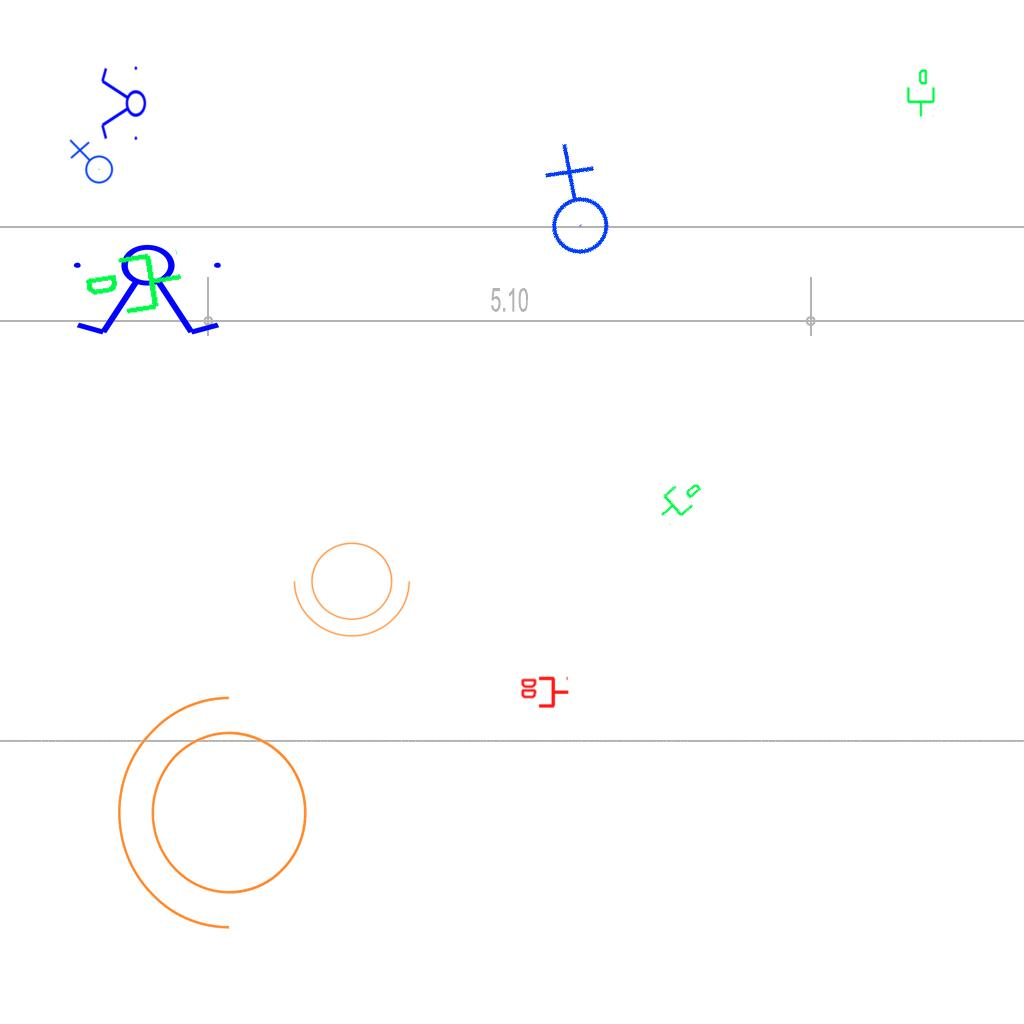Datenanschluss_einfach: (79, 244, 190, 328), (648, 469, 710, 529), (903, 68, 937, 118)
Datenanschluss_zweifach: (519, 676, 570, 710)
Elektroanschluss_allgemein_230V_Geraeteanschlussdose_230V: (506, 138, 639, 274), (67, 139, 114, 188)
Scheinwerfer_fuer_Alarmbeleuchtung: (107, 687, 332, 951), (289, 530, 421, 642)
Serienschalter: (65, 243, 233, 339), (99, 62, 147, 146)
